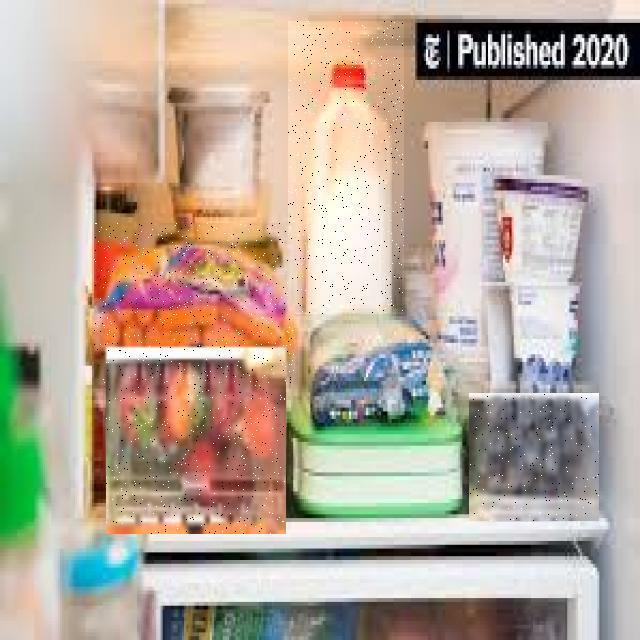Blue Berries: (469, 393, 599, 521)
Carrot: (94, 224, 294, 384)
Milk: (288, 21, 404, 314)
Straw Berry: (106, 350, 286, 534)
